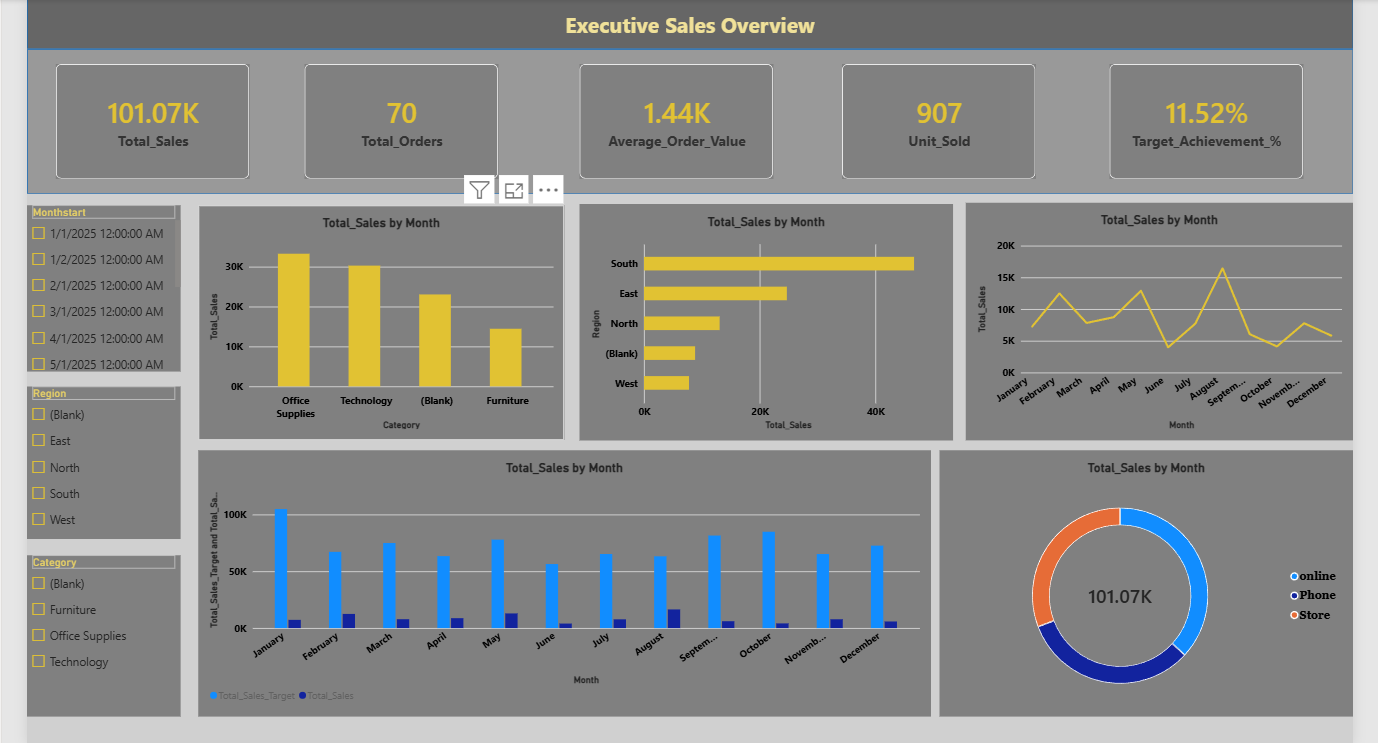

What the dashboard file says about the page in this screenshot:
{"tool":"powerbi","page":{"name":"Executive Sales Overview","canvas":[1920,1080],"ordinal":0},"visuals":[{"type":"shape","title":"Executive","box":[0,0,1920.1,72.4],"z":0},{"type":"shape","box":[0,72.4,1920.1,209.9],"z":1},{"type":"cardVisual","fields":{"Data":["fact_Orders.Total_Sales"]},"box":[41.6,94.1,280.5,166.5],"z":2},{"type":"cardVisual","fields":{"Data":["fact_Orders.Total_Orders"]},"box":[401.7,94.1,280.5,166.5],"z":3},{"type":"cardVisual","fields":{"Data":["fact_Orders.Average_Order_Value"]},"box":[799.9,94.1,280.5,166.5],"z":4},{"type":"cardVisual","fields":{"Data":["fact_Orders.Unit_Sold"]},"box":[1179.9,94.1,280.5,166.5],"z":5},{"type":"cardVisual","fields":{"Data":["fact_Targets.Target_Achievement_%"]},"box":[1567.2,94.1,280.5,166.5],"z":6},{"type":"barChart","title":"Total_Sales by Month","fields":{"Category":["dim_Region.Region"],"Y":["fact_Orders.Total_Sales"]},"box":[799.9,296.8,541.1,342],"z":7},{"type":"lineChart","title":"Total_Sales by Month","fields":{"Category":["dim_month.monthstart.Variation.Date Hierarchy.Month"],"Y":["fact_Orders.Total_Sales"]},"box":[1359.1,295,561,343.8],"z":8},{"type":"columnChart","title":"Total_Sales by Month","fields":{"Category":["dim_Products.Category"],"Y":["fact_Orders.Total_Sales"]},"box":[247.9,298.6,530.2,340.2],"z":9},{"type":"clusteredColumnChart","title":"Total_Sales by Month","fields":{"Category":["dim_month.monthstart.Variation.Date Hierarchy.Month"],"Y":["fact_Targets.Total_Sales_Target","fact_Orders.Total_Sales"]},"box":[247.9,653.3,1060.5,385.5],"z":10},{"type":"donutChart","title":"Total_Sales by Month","fields":{"Category":["fact_Orders.SalesChannel"],"Y":["fact_Orders.Total_Sales"]},"box":[1321.1,653.3,599,385.5],"z":11},{"type":"slicer","title":"Total_Sales by Month","fields":{"Values":["dim_month.monthstart"]},"box":[0,298.6,222.6,240.7],"z":12},{"type":"slicer","title":"Total_Sales by Month","fields":{"Values":["dim_Region.Region"]},"box":[0,561,222.6,220.8],"z":15},{"type":"slicer","title":"Total_Sales by Month","fields":{"Values":["dim_Products.Category"]},"box":[0,805.3,222.6,233.4],"z":16}]}

Visuals, with their boxes on the page's 1920x1080 design canvas (x1, y1, x2, y2). These are canvas units, not pixel positions in the 1378x743 screenshot, which may show the page scaled, cropped or inside an application window:
"Executive" shape: select_region(0, 0, 1920, 72)
shape: select_region(0, 72, 1920, 282)
cardVisual - fact_Orders.Total_Sales: select_region(42, 94, 322, 261)
cardVisual - fact_Orders.Total_Orders: select_region(402, 94, 682, 261)
cardVisual - fact_Orders.Average_Order_Value: select_region(800, 94, 1080, 261)
cardVisual - fact_Orders.Unit_Sold: select_region(1180, 94, 1460, 261)
cardVisual - fact_Targets.Target_Achievement_%: select_region(1567, 94, 1848, 261)
"Total_Sales by Month" barChart: select_region(800, 297, 1341, 639)
"Total_Sales by Month" lineChart: select_region(1359, 295, 1920, 639)
"Total_Sales by Month" columnChart: select_region(248, 299, 778, 639)
"Total_Sales by Month" clusteredColumnChart: select_region(248, 653, 1308, 1039)
"Total_Sales by Month" donutChart: select_region(1321, 653, 1920, 1039)
"Total_Sales by Month" slicer: select_region(0, 299, 223, 539)
"Total_Sales by Month" slicer: select_region(0, 561, 223, 782)
"Total_Sales by Month" slicer: select_region(0, 805, 223, 1039)
